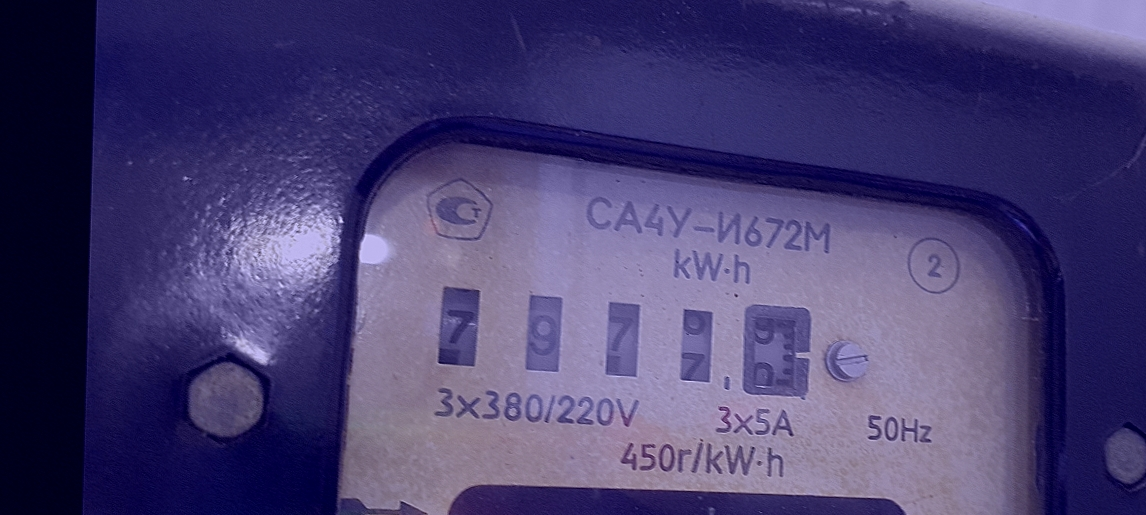0: (750, 358, 774, 388)
7: (440, 304, 475, 350), (677, 344, 708, 386), (605, 313, 635, 355)
9: (526, 311, 558, 359), (749, 315, 780, 348)
screen: (423, 274, 827, 412)
